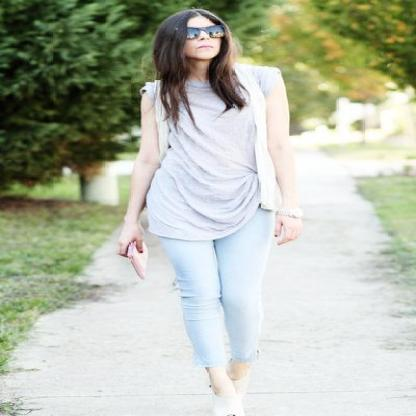jacket: (222, 97, 248, 114)
pants: (151, 230, 255, 368)
shirt: (140, 75, 282, 240)
shoe: (198, 380, 250, 416)
sunglass: (176, 13, 226, 49)
